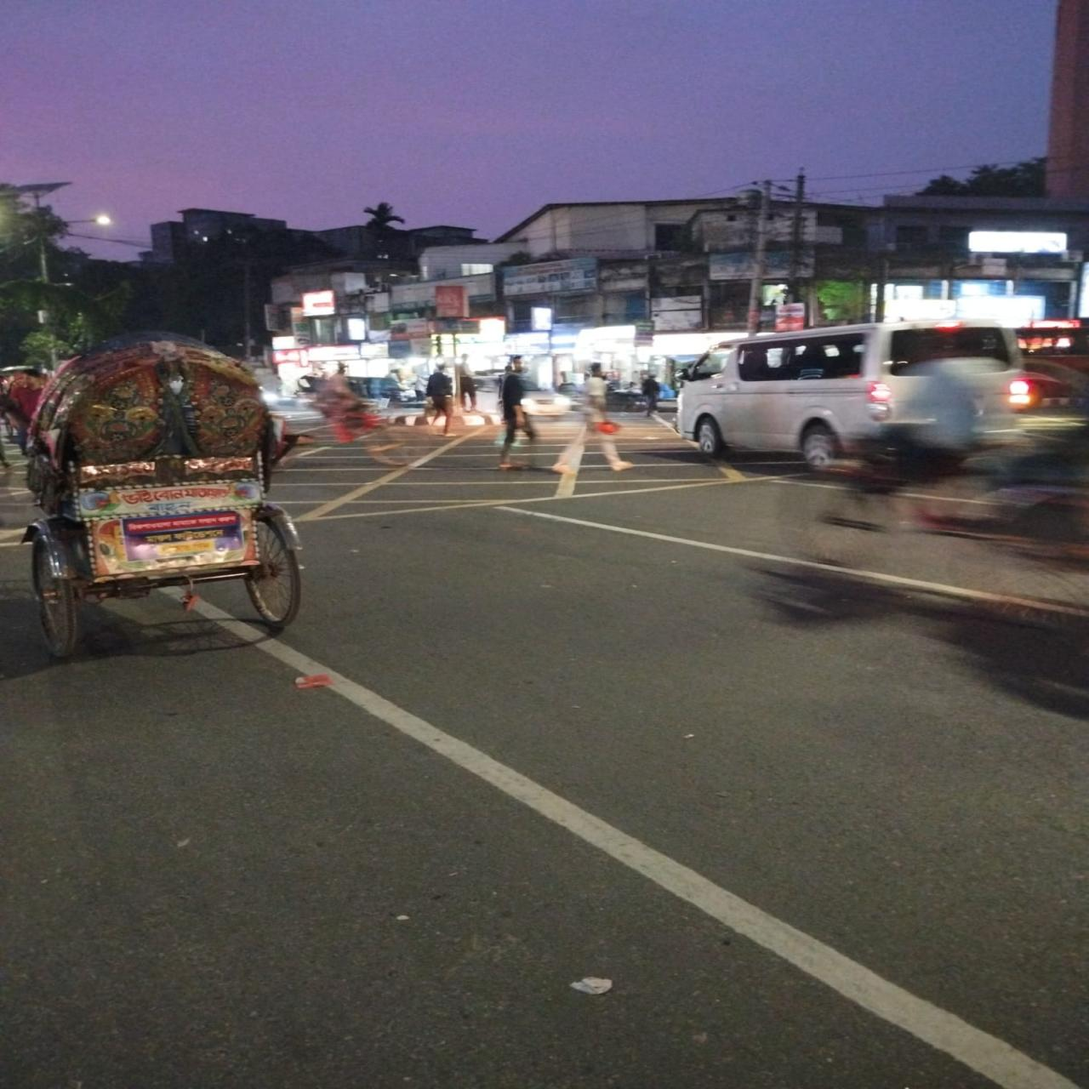person: (491, 355, 546, 473), (574, 355, 620, 471), (411, 358, 457, 430)
